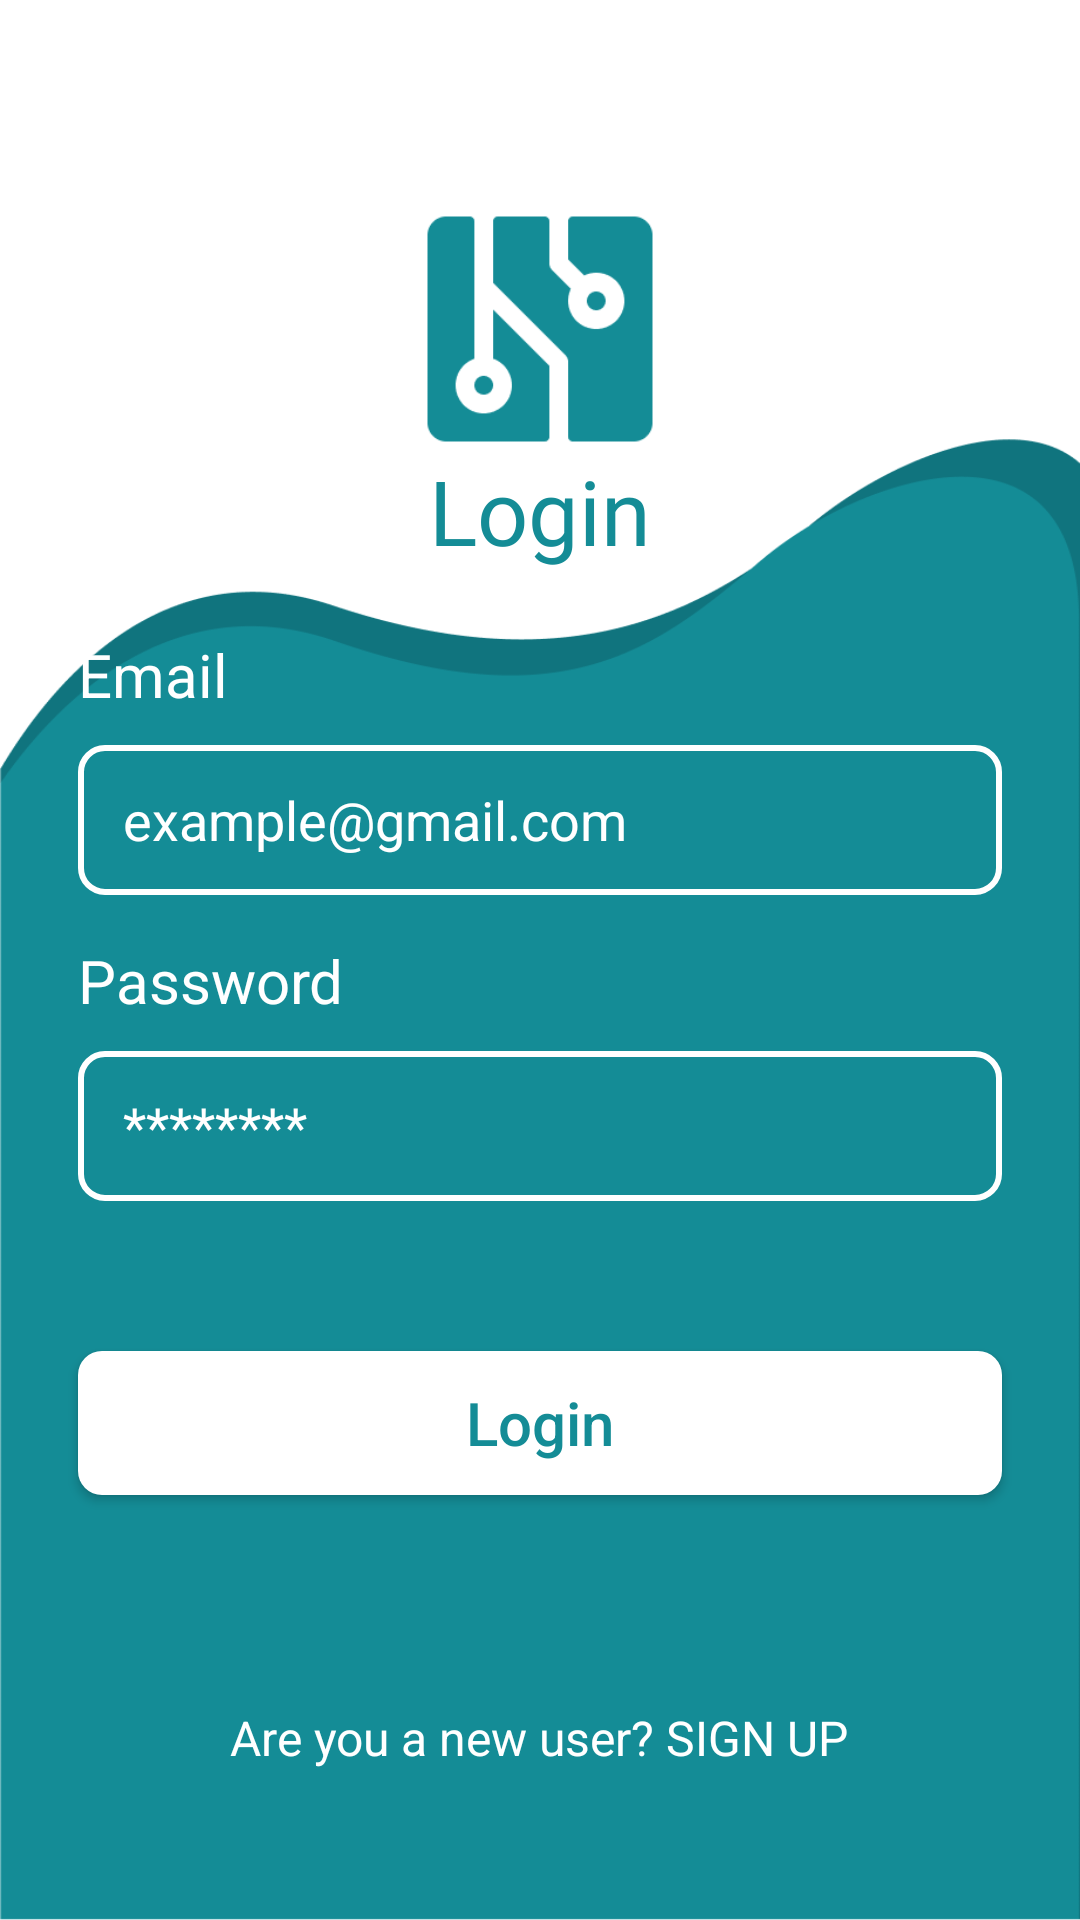

Named icons in this screenshot (1080*1920) and their centers, (x=x, y=y):
circuit: (x=540, y=329)
